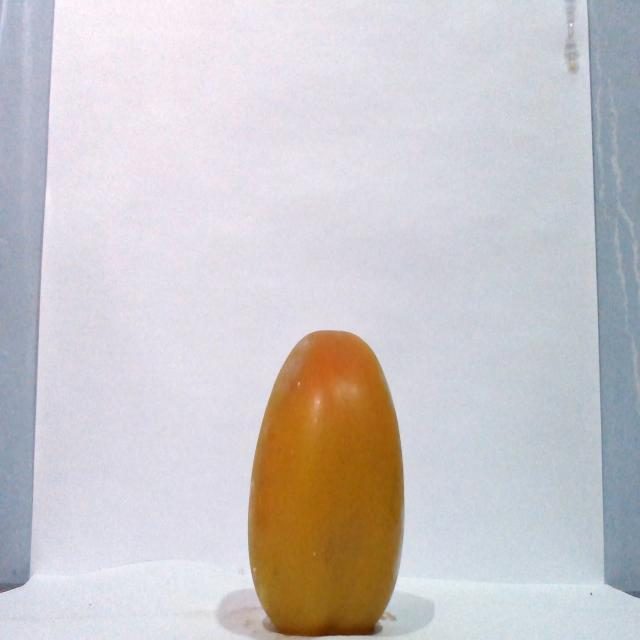Red: (246, 328, 406, 635)
